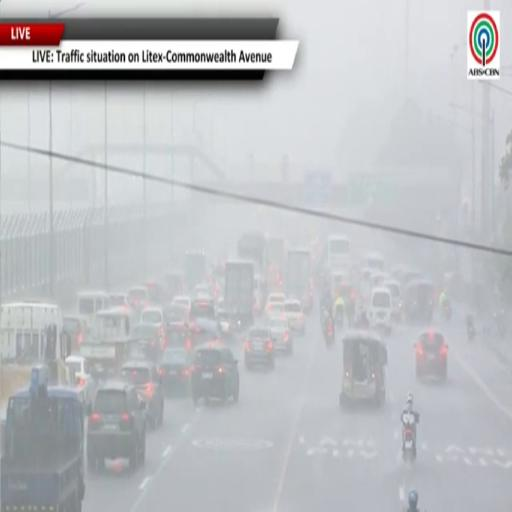car: (87, 381, 145, 470), (191, 343, 239, 404), (121, 360, 164, 427), (414, 331, 447, 379), (65, 356, 95, 406), (159, 347, 191, 393), (245, 327, 275, 369), (132, 324, 166, 360), (63, 315, 88, 353), (268, 317, 293, 355), (166, 323, 193, 351), (192, 318, 219, 346), (284, 300, 305, 335), (191, 297, 215, 324), (127, 286, 149, 315), (144, 280, 167, 305), (140, 307, 165, 328), (164, 304, 190, 323), (265, 293, 285, 313), (109, 292, 130, 308), (172, 296, 191, 312), (266, 303, 284, 318)
motorcycle: (403, 426, 416, 462), (325, 322, 334, 346), (334, 307, 344, 328), (443, 300, 452, 322), (468, 324, 476, 341)
truck: (0, 365, 85, 511), (80, 336, 139, 378), (224, 261, 254, 328), (285, 248, 312, 312), (237, 231, 267, 274), (267, 237, 285, 291), (185, 251, 208, 292)
